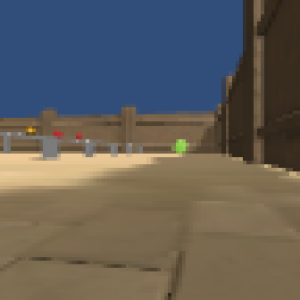badGoal: (52, 128, 65, 138), (74, 131, 84, 139)
goodGoal: (172, 137, 188, 154)
goodGoalMulti: (26, 125, 37, 137)
wall: (41, 135, 60, 159), (3, 132, 12, 155), (109, 143, 119, 157), (86, 140, 95, 155), (125, 142, 134, 156), (135, 145, 143, 154)
